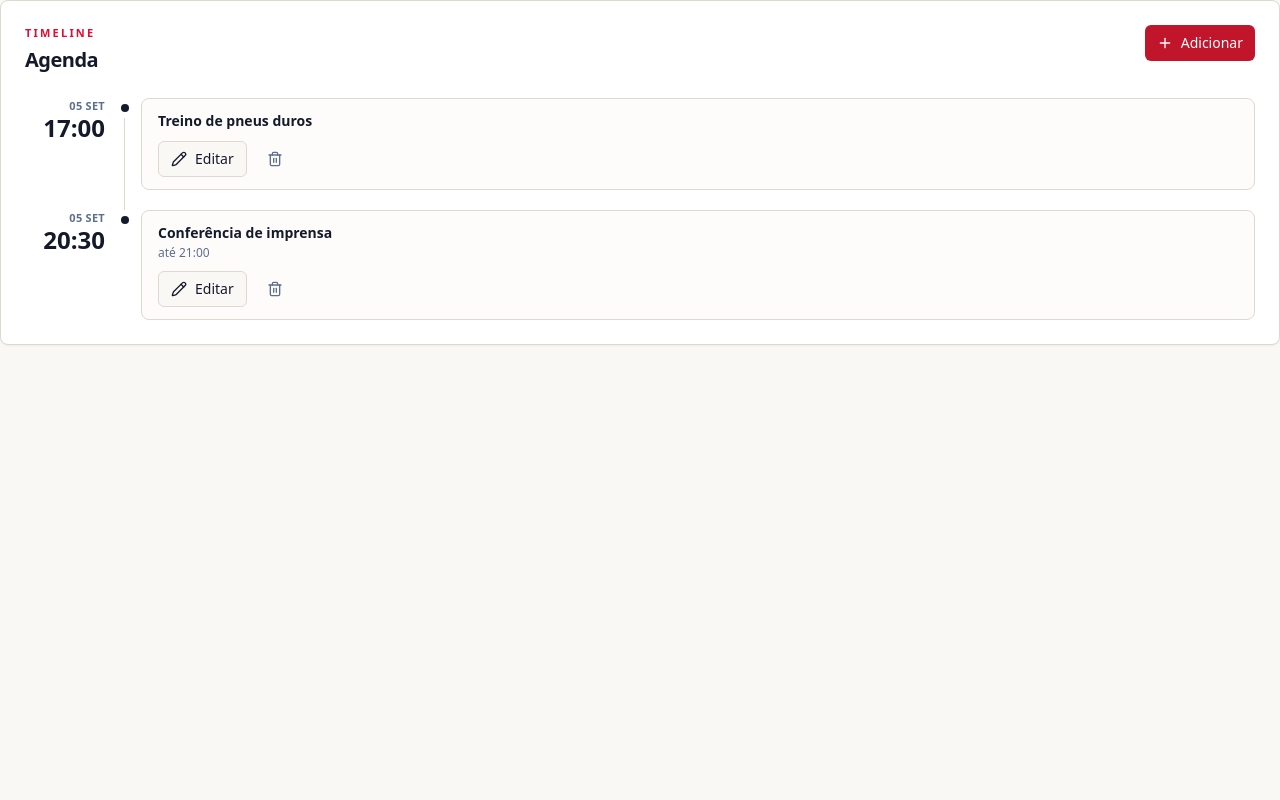
Test case: ScheduleCard › remove um agendamento após confirmação
Click the button named "Remover agendamento" below "Treino de pneus duros": (275, 158) left=255, top=140, right=295, bottom=176
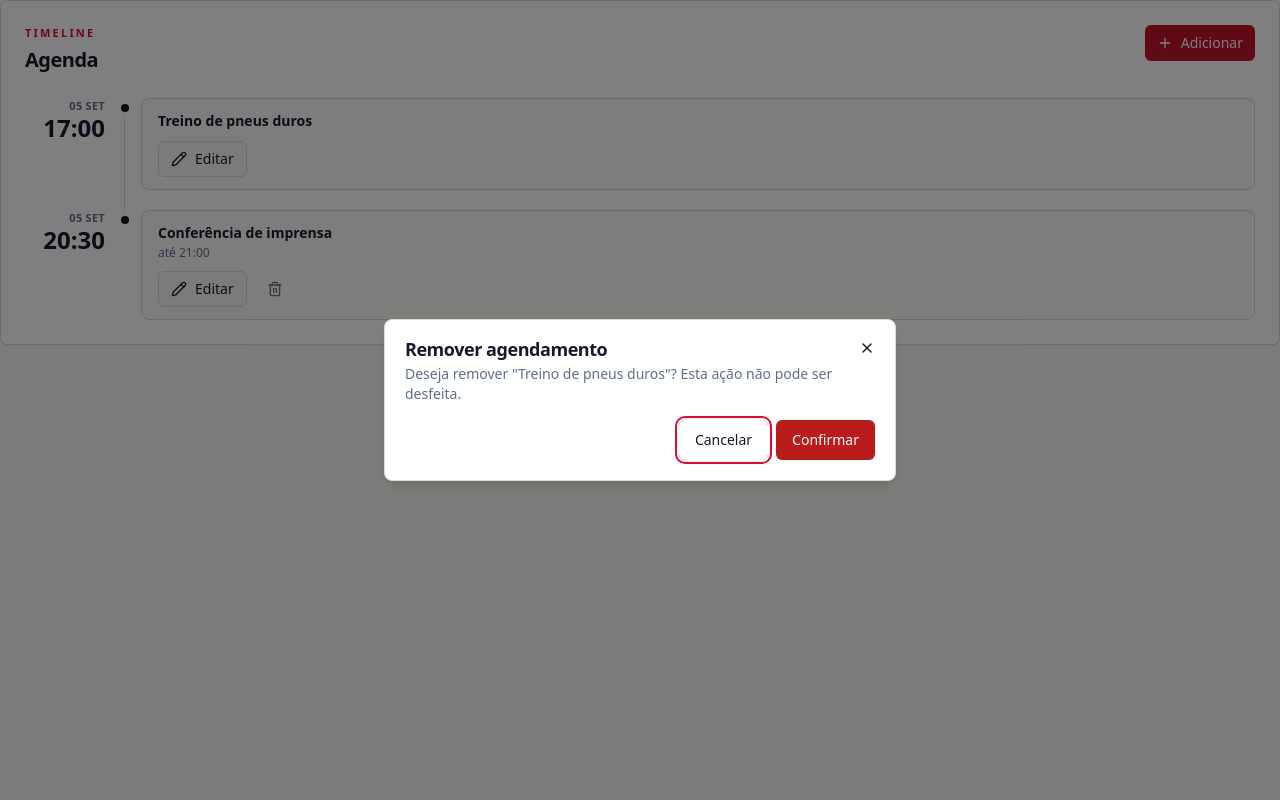
Expected: the dialog is shown, left=384, top=319, right=896, bottom=481
Expected: the button "Confirmar" is shown, left=776, top=420, right=875, bottom=460
